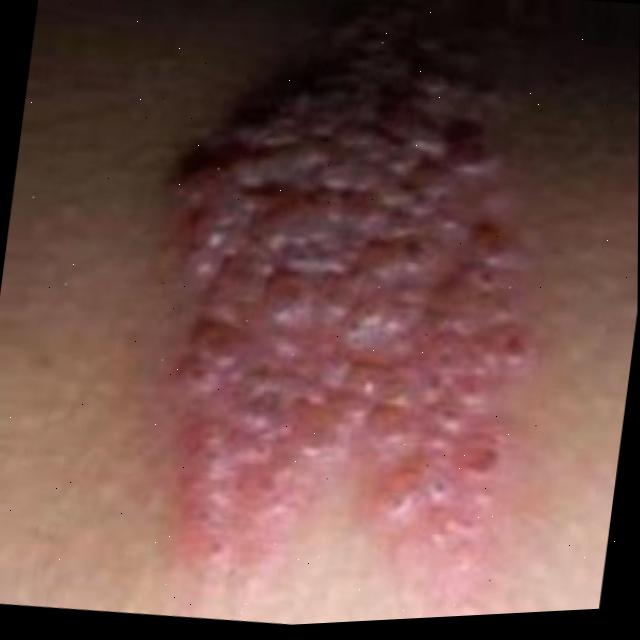Shingles: (123, 0, 555, 594)
